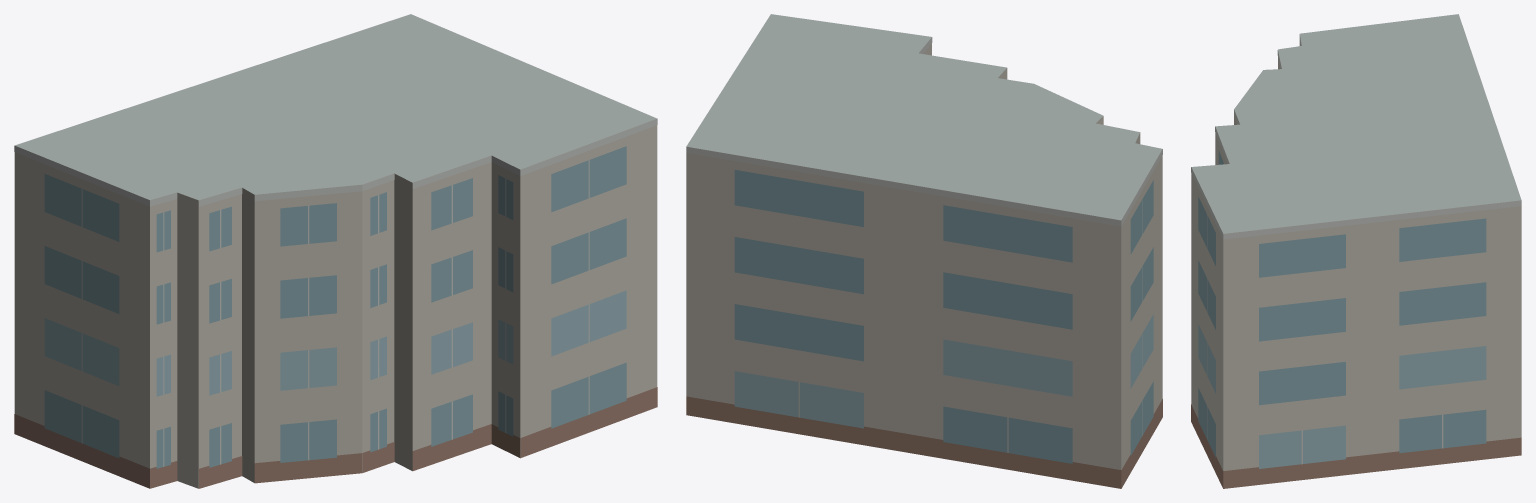
File: survey-upis-32986223.glb
The picture shows the model from 3 angles, left to right: view 1: azimuth 30°, elevation 25°; view 2: azimuth 150°, elevation 25°; view 3: azimuth 270°, elevation 25°; orthographic projection. The views are drawn at different scales.
Visible parts, largest first — view 1: survey-upis-32986223.tmp; view 2: survey-upis-32986223.tmp; view 3: survey-upis-32986223.tmp.
Boxes of the visible parts, x1,y1,x2,y2 form: survey-upis-32986223.tmp: (14,14,657,488); survey-upis-32986223.tmp: (686,14,1162,488); survey-upis-32986223.tmp: (1191,14,1521,488).
Size of the model in its own units: 19.98 by 10.8 by 12.69.
